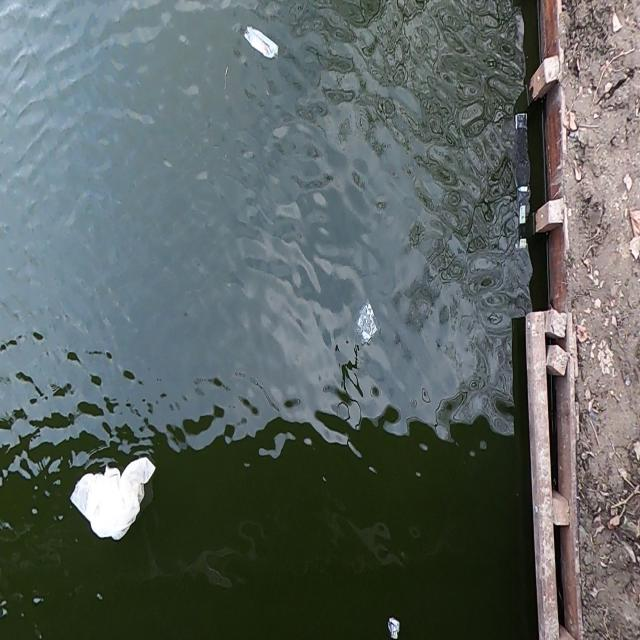Sac plastique: (67, 446, 161, 550), (356, 301, 384, 350)
